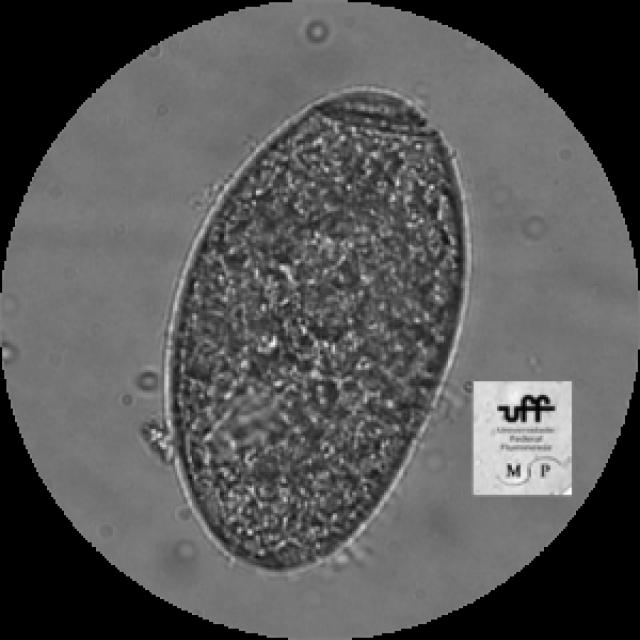Fasciola Hepatica: (144, 77, 475, 583)
